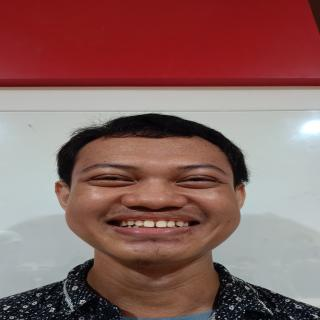Senang: (58, 132, 243, 279)
